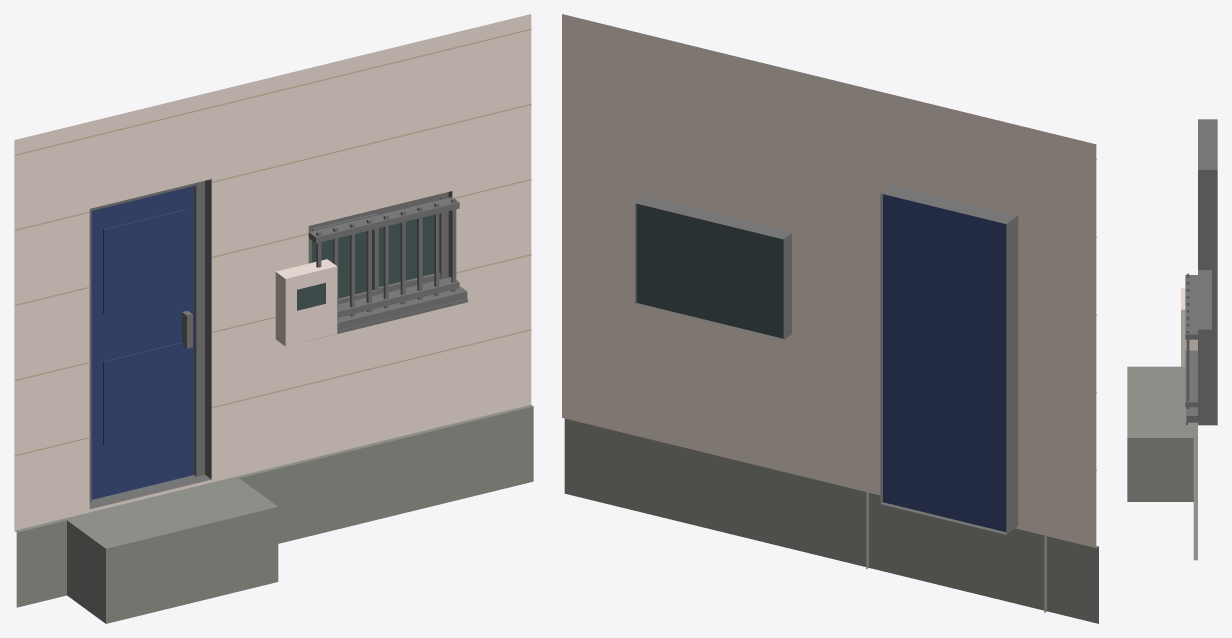
The model's file is base-w3_close.fbx.
3 views of the same model, side by side, from view 1: azimuth 30°, elevation 25°; view 2: azimuth 150°, elevation 25°; view 3: azimuth 270°, elevation 25° (orthographic). The views are drawn at different scales.
Parts seen in each view (by area): view 1: a2001/200/base-w3_close; view 2: a2001/200/base-w3_close; view 3: a2001/200/base-w3_close.
Part boxes in pixels (x1=…): a2001/200/base-w3_close: x1=14, y1=14, x2=533, y2=623; a2001/200/base-w3_close: x1=562, y1=14, x2=1098, y2=623; a2001/200/base-w3_close: x1=1127, y1=119, x2=1217, y2=560.
Size of the model in its own units: 3.6 by 3.1 by 0.64.
